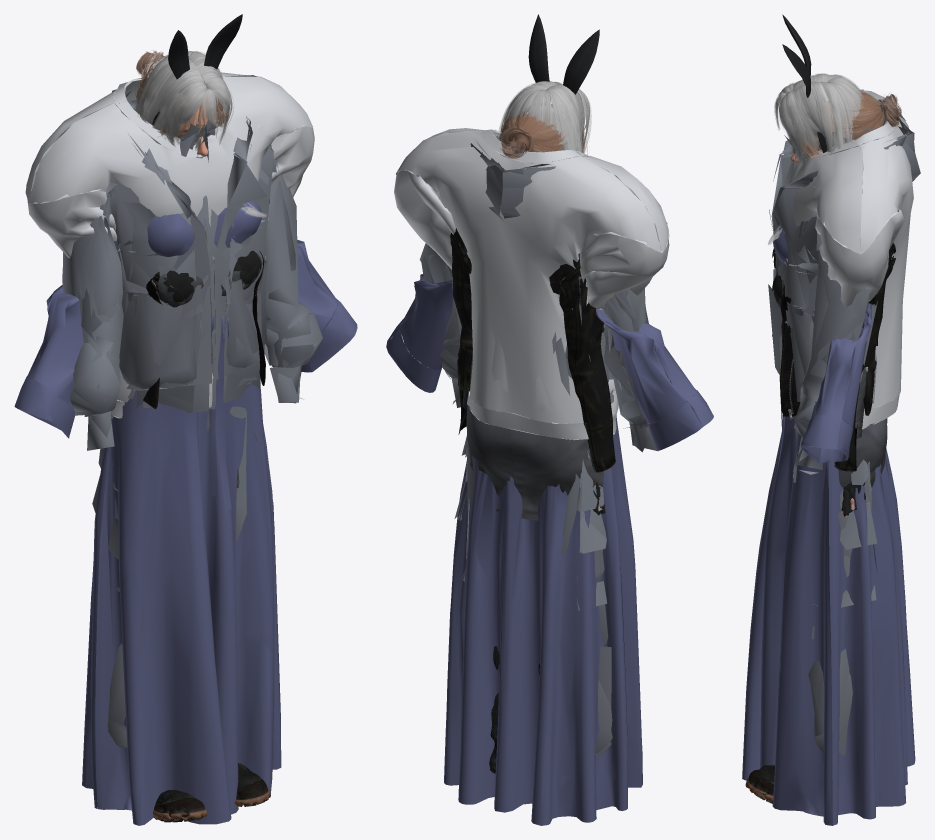
The model's file is amber.glb.
The picture shows the model from 3 angles, left to right: view 1: azimuth 30°, elevation 25°; view 2: azimuth 150°, elevation 25°; view 3: azimuth 270°, elevation 25°; orthographic projection. The views are drawn at different scales.
Parts seen in each view (by area): view 1: Loose_Kimono, Loose_Streetwear, Loose_BaggyTee, SKM_Hair_Bangs, SKM_Hair_Base_01, Boots, Bunny_BunnyEars, Punk_Leather_Jacket, Suit_Jacket, Punk_Strap_Boots, SKM_Hair_Base_02, Bunny_Pads_Nipples (+3 smaller); view 2: Loose_Kimono, Loose_BaggyTee, Loose_Streetwear, Punk_Leather_Jacket, Suit_Skirt, SKM_Hair_Base_01, Bunny_BunnyEars, Hair_Base, Bun, Jeans; view 3: Loose_Kimono, Loose_BaggyTee, Loose_Streetwear, Punk_Leather_Jacket, SKM_Hair_Base_02, SKM_Hair_Bangs, Suit_Skirt, Hair_Base, Bunny_BunnyEars, SKM_Hair_Base_01, Boots, Suit_Jacket (+1 smaller).
Boxes of the visible parts, x1,y1,x2,y2 form: Loose_Kimono: (14, 200, 357, 825); Loose_Streetwear: (62, 82, 322, 748); Loose_BaggyTee: (25, 72, 314, 418); SKM_Hair_Bangs: (161, 77, 233, 146); SKM_Hair_Base_01: (134, 50, 204, 132); Boots: (153, 763, 270, 820); Bunny_BunnyEars: (152, 14, 242, 125); Punk_Leather_Jacket: (143, 251, 265, 408); Suit_Jacket: (158, 253, 262, 307); Punk_Strap_Boots: (154, 763, 266, 822); SKM_Hair_Base_02: (160, 51, 266, 217); Bunny_Pads_Nipples: (166, 250, 257, 291); Loose_Kimono: (386, 274, 713, 825); Loose_BaggyTee: (394, 128, 669, 439); Loose_Streetwear: (419, 128, 669, 757); Punk_Leather_Jacket: (450, 228, 615, 472); Suit_Skirt: (466, 405, 603, 520); SKM_Hair_Base_01: (506, 84, 585, 152); Bunny_BunnyEars: (523, 14, 599, 138); Hair_Base: (499, 111, 567, 151); Bun: (500, 127, 535, 158); Jeans: (470, 456, 600, 774); Loose_Kimono: (742, 226, 915, 825); Loose_BaggyTee: (784, 89, 913, 429); Loose_Streetwear: (768, 104, 920, 755); Punk_Leather_Jacket: (780, 243, 895, 471); SKM_Hair_Base_02: (768, 81, 854, 244); SKM_Hair_Bangs: (774, 83, 819, 164); Suit_Skirt: (838, 418, 887, 489); Hair_Base: (818, 90, 886, 146); Bunny_BunnyEars: (782, 14, 827, 152); SKM_Hair_Base_01: (792, 73, 866, 132); Boots: (745, 769, 773, 801); Suit_Jacket: (775, 260, 866, 438).
Bounding box in the file's own units: 0.8434 × 1.89 × 0.4051.
Materials: 28 (25 with a texture image).
